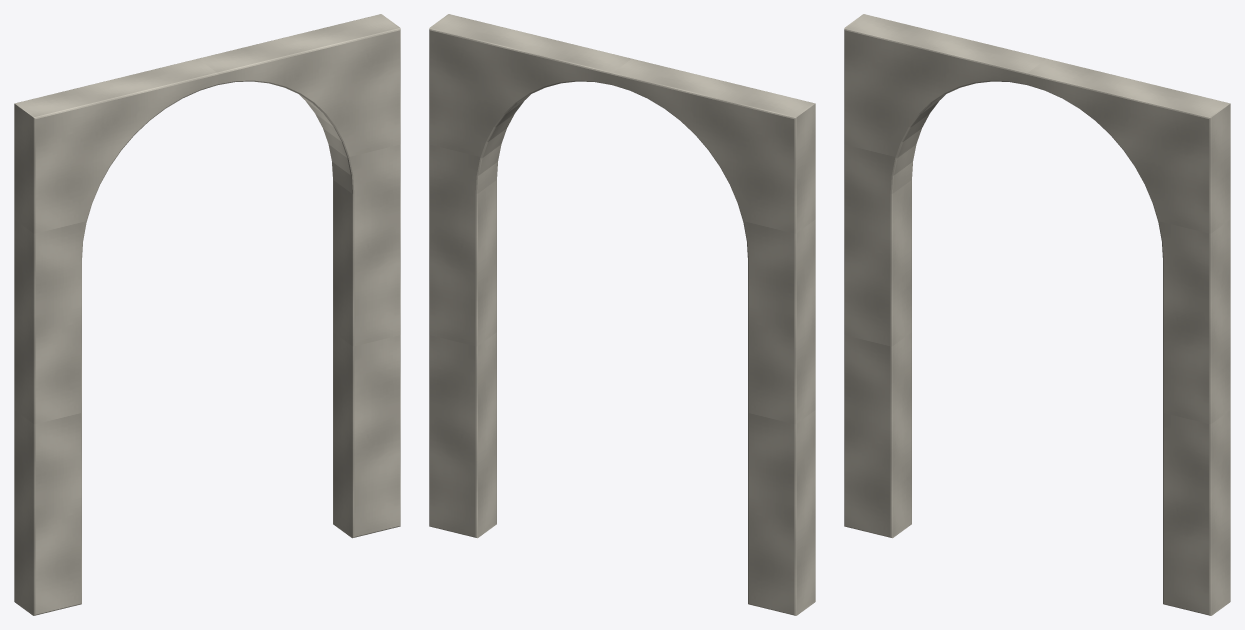
Rendered from paranormal-investigation-house-hallway-arch-aab83ebc__26699.glb.
3 views of the same model, side by side, from view 1: azimuth 30°, elevation 25°; view 2: azimuth 150°, elevation 25°; view 3: azimuth 330°, elevation 25° (orthographic).
Parts seen in each view (by area): view 1: hallway-arch; view 2: hallway-arch; view 3: hallway-arch.
Part boxes in pixels (bbox=[...]): hallway-arch: bbox=[14, 14, 400, 615]; hallway-arch: bbox=[429, 14, 815, 615]; hallway-arch: bbox=[844, 14, 1230, 615].
Size of the model in its own units: 2.02 by 2.62 by 0.1961.
1 material, 1 textured.
